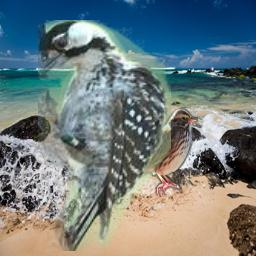Sparrow: (115, 107, 198, 195)
Woodpecker: (38, 20, 171, 251)
